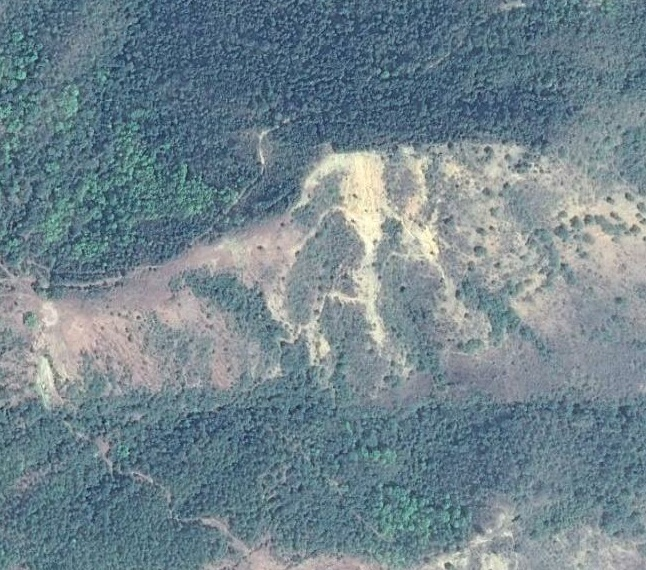slope: (283, 145, 394, 274)
